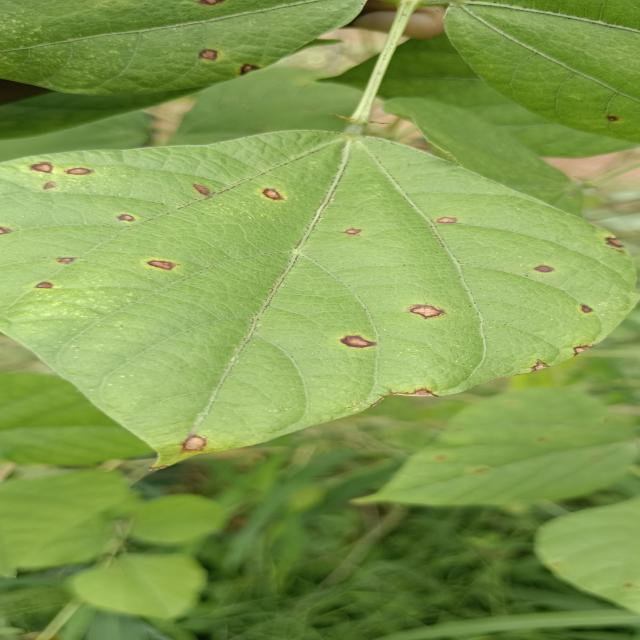Dolicos bean_cercospora leaf spot: (0, 126, 640, 456)
